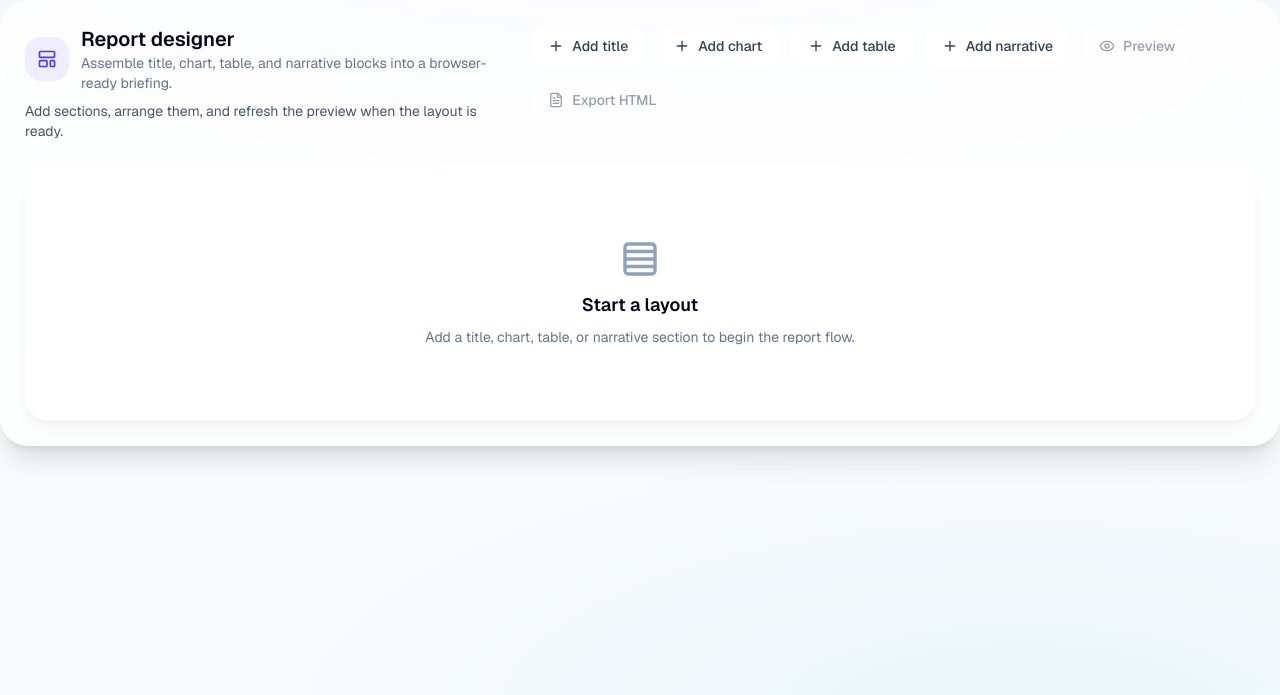
Test: ReportDesigner › builds a preview with DuckDB-backed chart and table sections
What coordinates should you click on to do the following:
click the button "Add title"
I would click on:
 (588, 46)
Its box is [531,25,645,67].
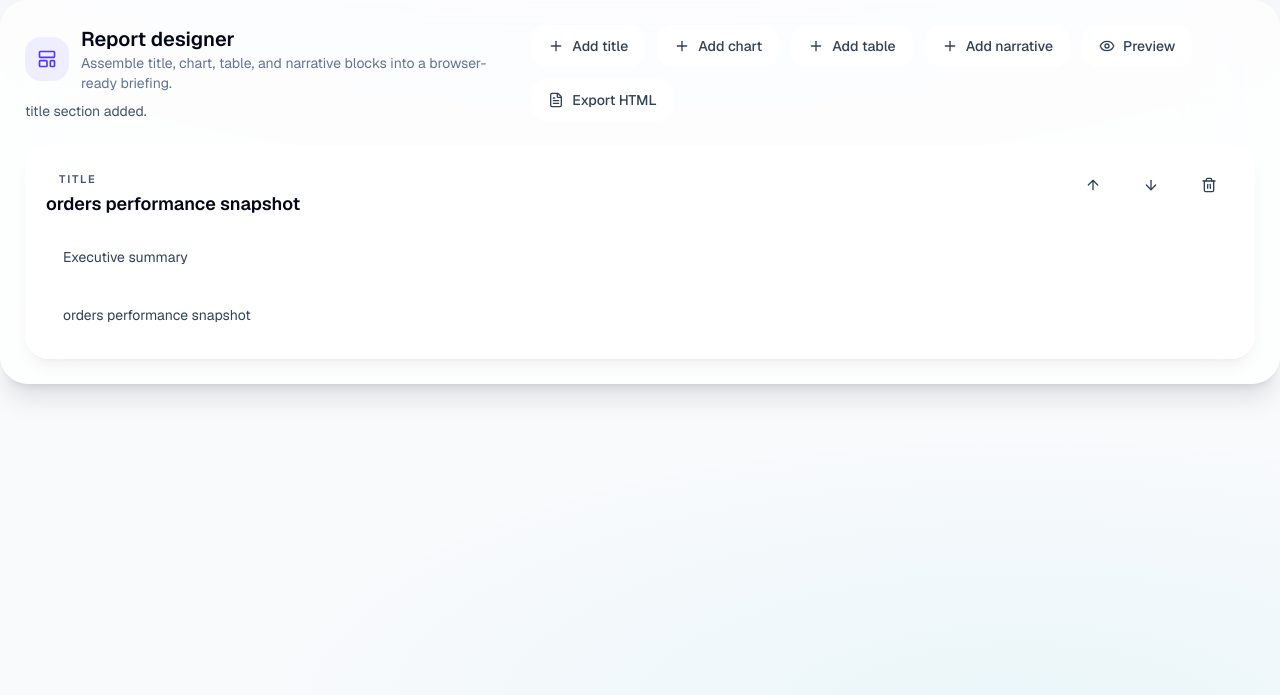
What coordinates should you click on to do the following:
click the button "Add chart"
I would click on:
 (718, 46)
Its box is [657,25,779,67].
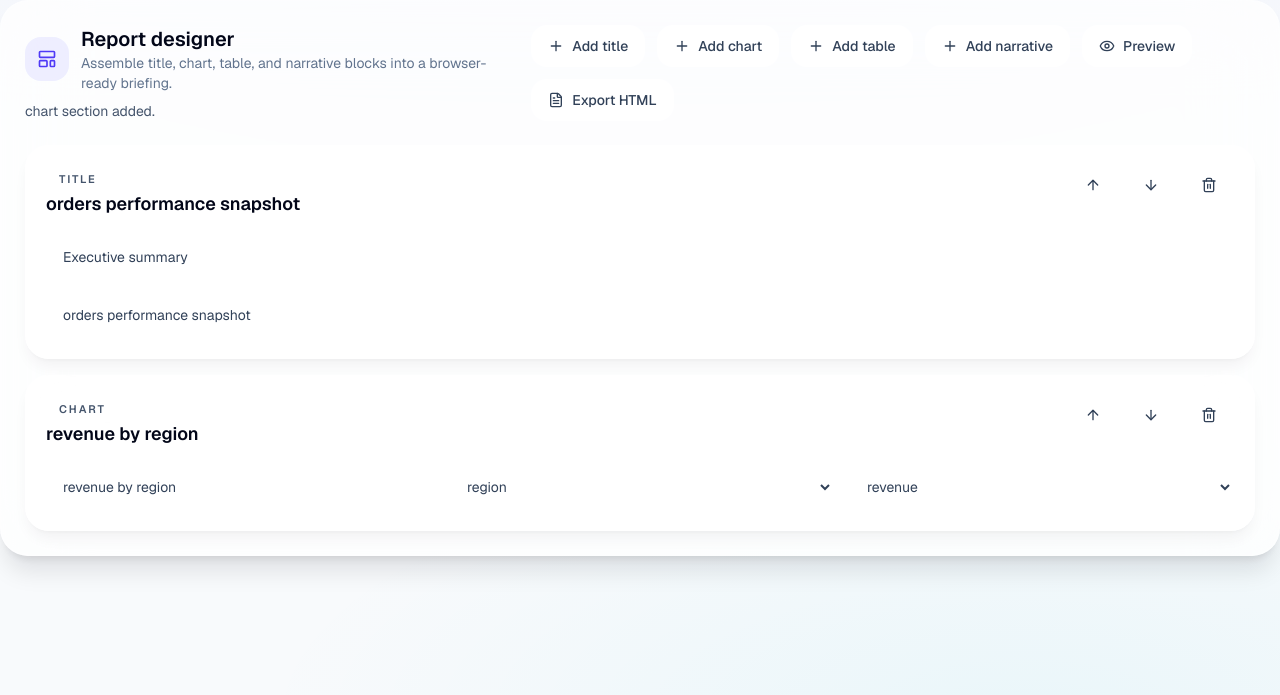
What coordinates should you click on to do the following:
click the button "Add table"
I would click on:
 (852, 46)
Its box is [791,25,913,67].
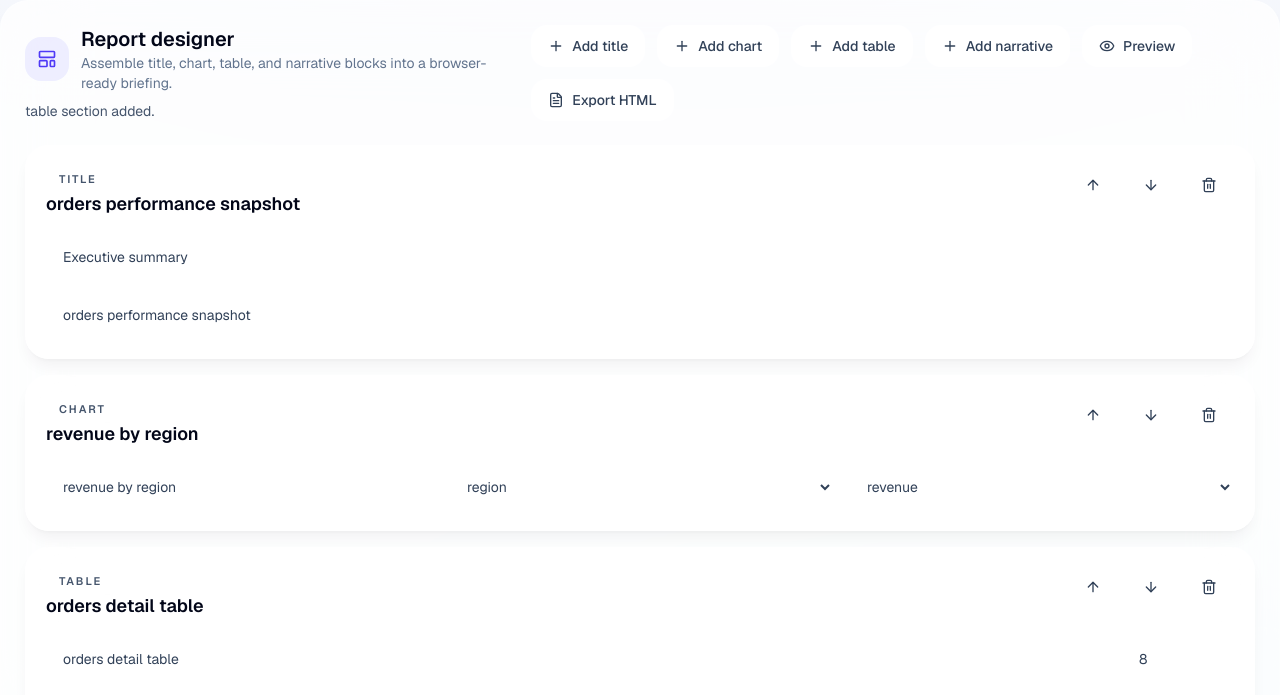
What coordinates should you click on to do the following:
click the button "Preview"
I would click on:
 (1137, 46)
Its box is [1082,25,1192,67].
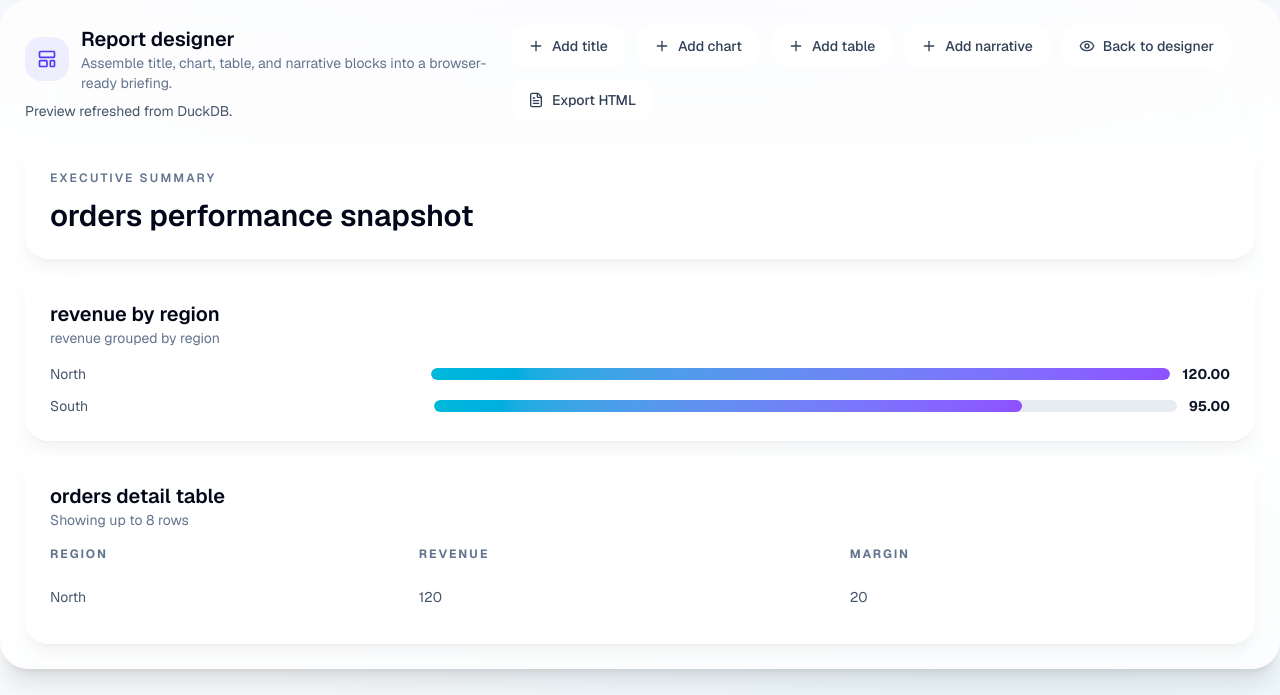
Check: the text "Preview refreshed from DuckDB." is shown, box [25,102,232,120]
Check: the text "North" is shown 2 times, box [50,365,86,383]; [50,574,419,619]
Check: the text "120.00" is shown, box [1182,364,1230,384]
